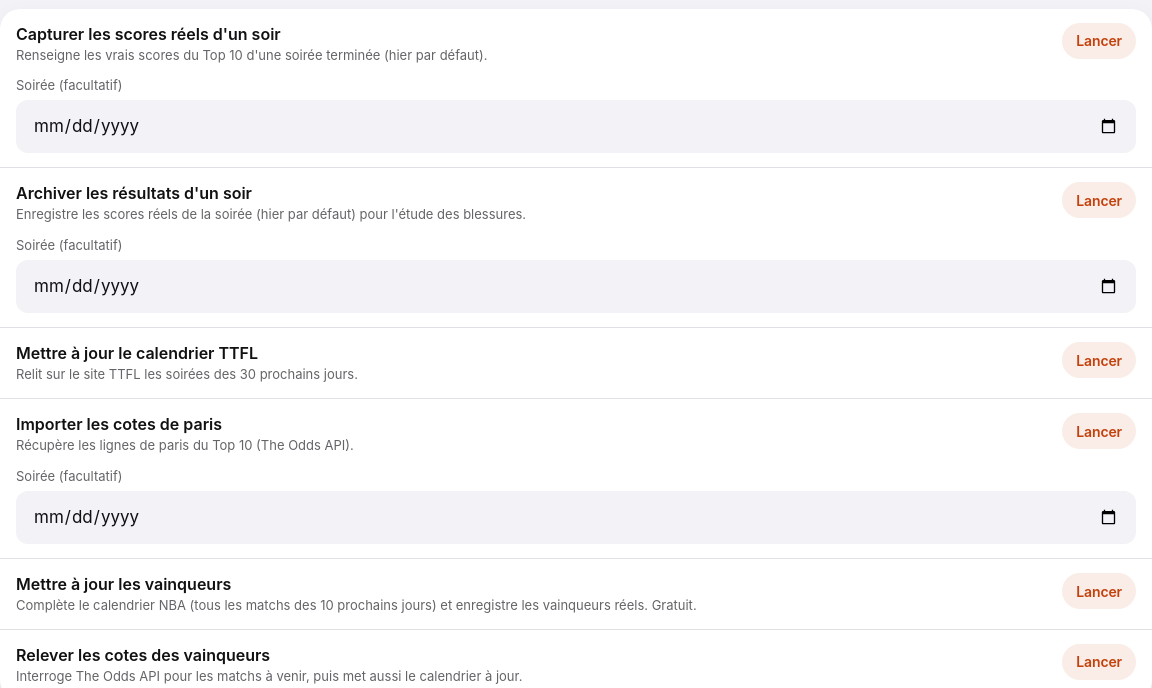
ActionsPC › une action simple dépose la demande tout de suite, sans confirmation
The image size is (1152, 688).
(page scrolled)
Click the button with aria-label "Lancer : Mettre à jour le calendrier TTFL". click: click(1099, 360)
box: left=1062, top=342, right=1136, bottom=378
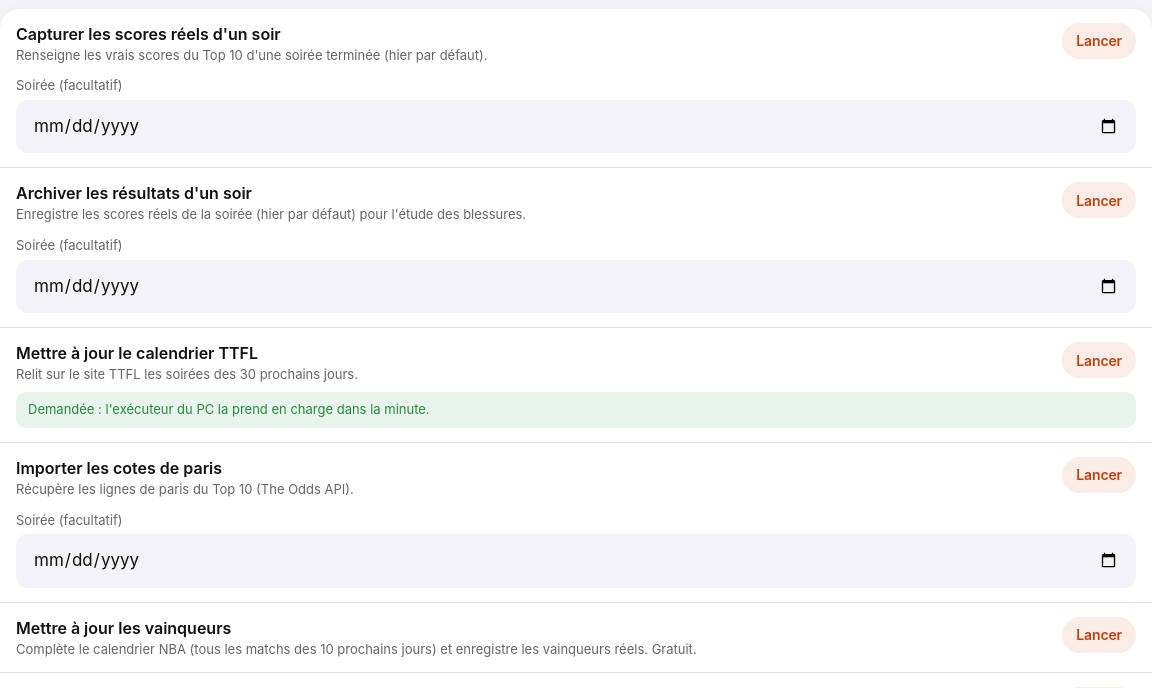
Expected: the text "l'exécuteur du PC la prend en charge" is shown, left=28, top=401, right=430, bottom=417
